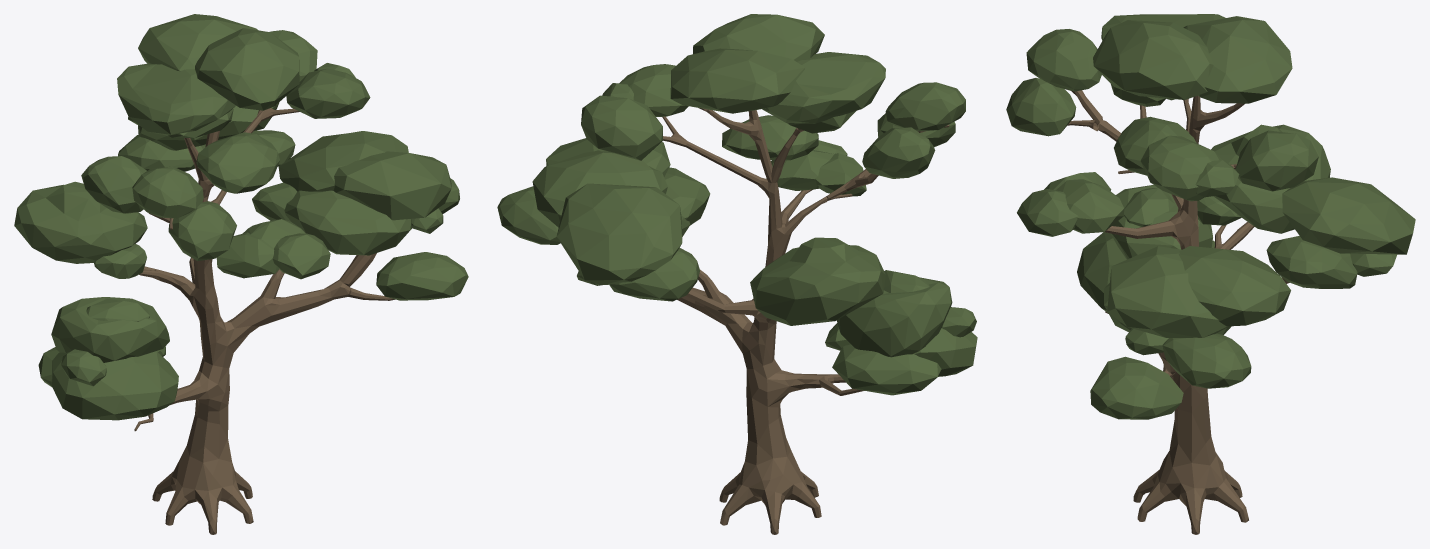
File: SM_Envr_Nature_Tree_Large_03.fbx
3 views of the same model, side by side, from view 1: azimuth 30°, elevation 25°; view 2: azimuth 150°, elevation 25°; view 3: azimuth 270°, elevation 25° (orthographic). The views are drawn at different scales.
Visible parts, largest first — view 1: SM_Envr_Nature_Tree_Large_03; view 2: SM_Envr_Nature_Tree_Large_03; view 3: SM_Envr_Nature_Tree_Large_03.
Boxes of the visible parts, bbox=[...] form: SM_Envr_Nature_Tree_Large_03: bbox=[14, 14, 468, 534]; SM_Envr_Nature_Tree_Large_03: bbox=[497, 14, 977, 534]; SM_Envr_Nature_Tree_Large_03: bbox=[1006, 14, 1415, 534].
Bounding box in the file's own units: 953 × 1008 × 753.
